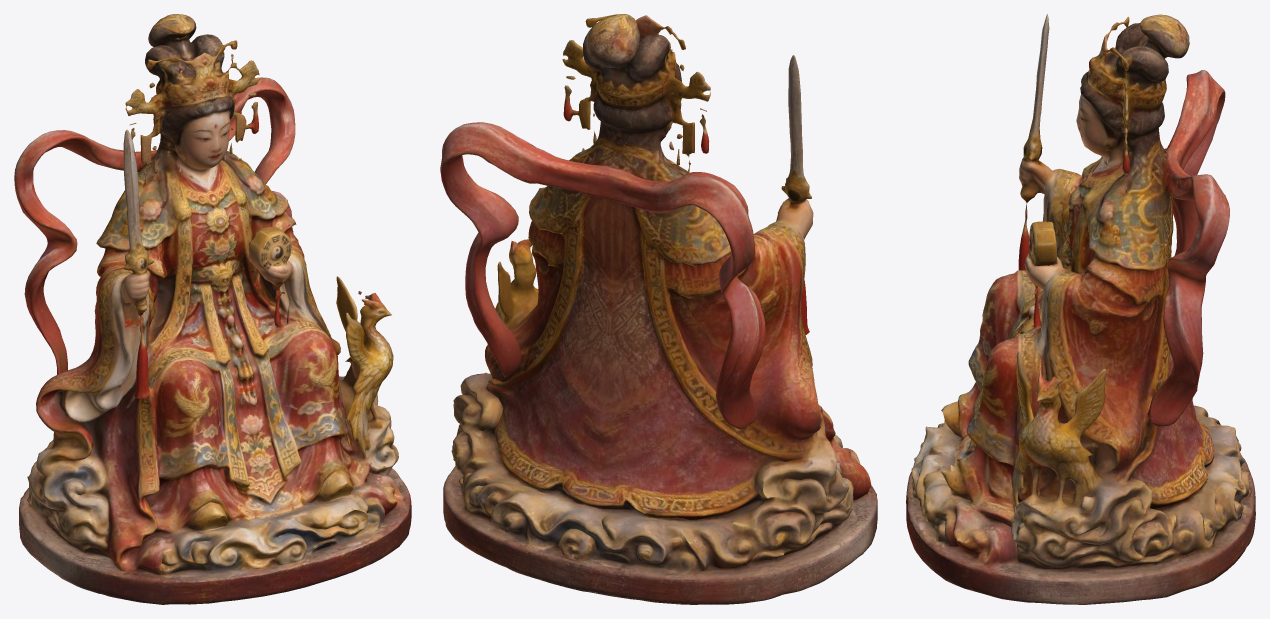
The model's file is jiutian.glb.
3 views of the same model, side by side, from view 1: azimuth 30°, elevation 25°; view 2: azimuth 150°, elevation 25°; view 3: azimuth 270°, elevation 25° (orthographic). The views are drawn at different scales.
Bounding box in the file's own units: 0.7352 × 0.9984 × 0.6279.
Materials: 1 (1 with a texture image).
